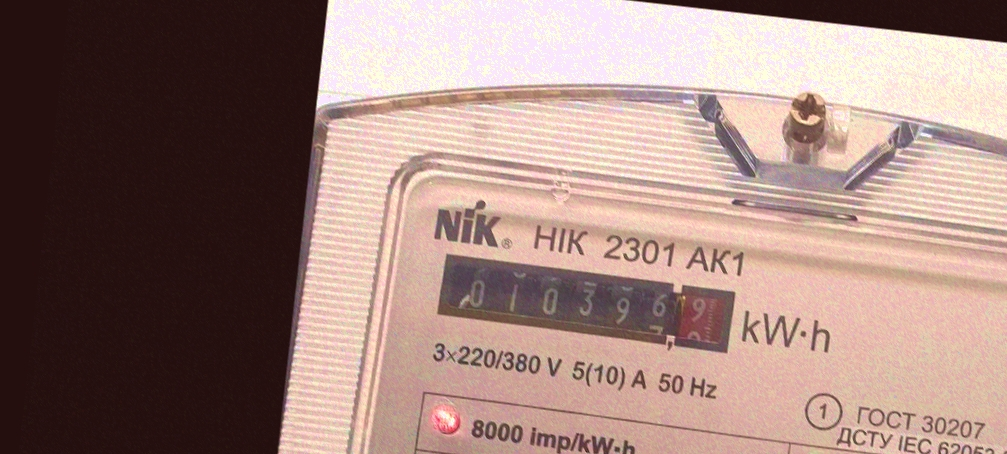0: (536, 283, 561, 318), (463, 275, 487, 310)
1: (504, 279, 521, 313)
3: (575, 285, 596, 320)
6: (646, 289, 670, 320)
9: (608, 293, 632, 328), (684, 294, 708, 326)
screen: (419, 239, 747, 368)
